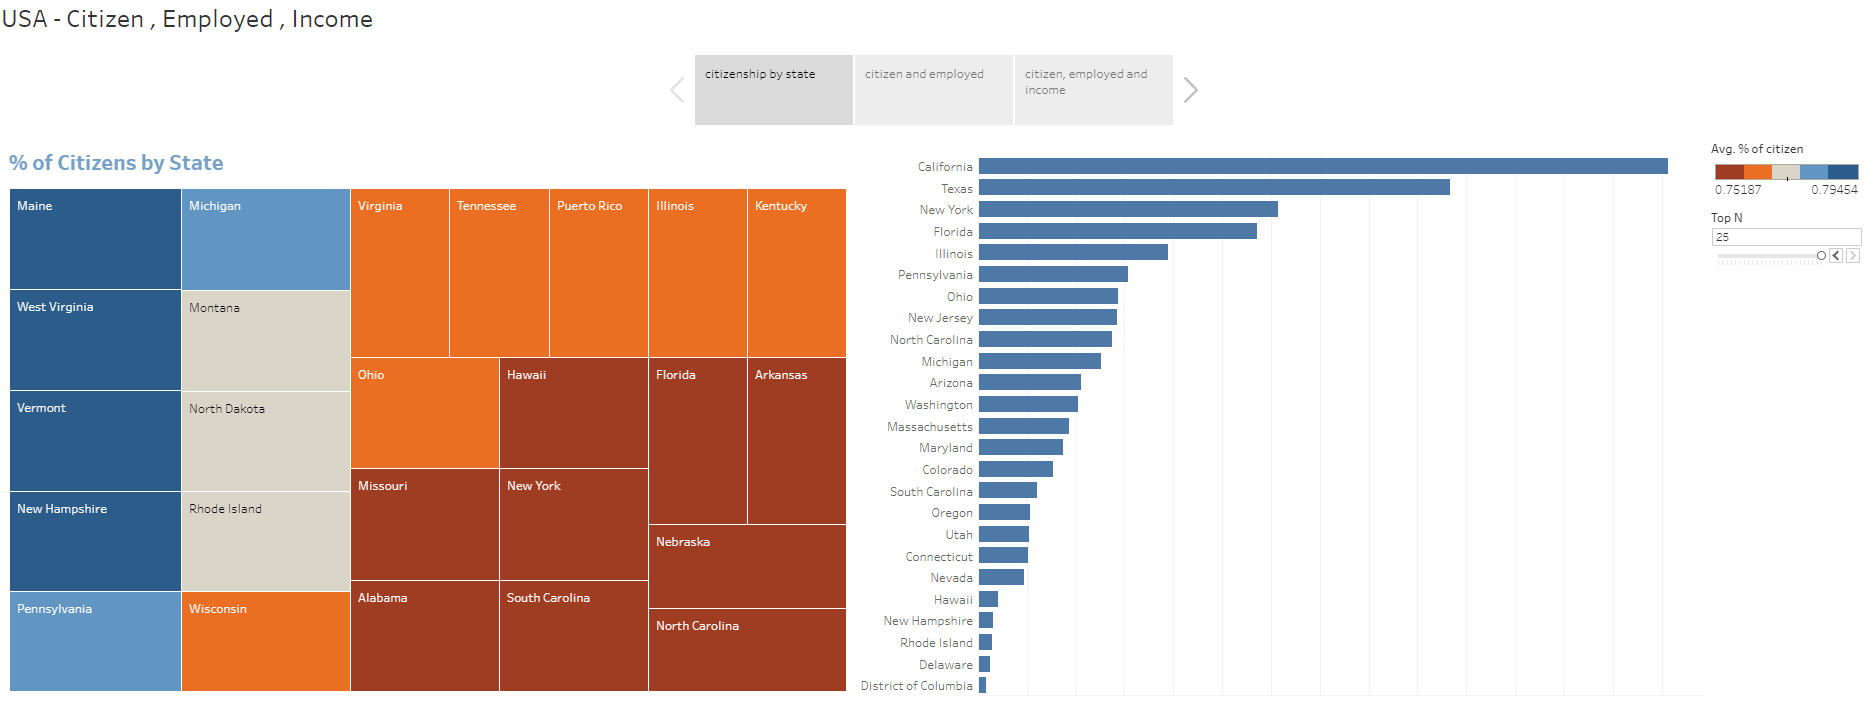

This screenshot's page, from the dashboard's own definition file:
{"tool":"tableau","page":{"name":"Dashboard 1","canvas":[1000,1000],"units":"permille","ordinal":0},"visuals":[{"type":"worksheet","title":"Sheet 10","mark":"Automatic","box":[0,0,450.8,1000]},{"type":"worksheet","title":"Sheet 8","mark":"Automatic","rows":["State"],"cols":["Calculation_261771748397506578"],"box":[450.8,0,450.8,1000]},{"type":"legend","title":"Sheet 10","param":"[federated.1ci7z6c1137yzq11qzppe0q217rl].[avg:Calculation_261771748036870161:qk]","box":[901.6,0,98.4,83.6]},{"type":"parameter","param":"[Parameters].[State Parameter]","box":[901.6,83.6,98.4,90.5]}]}

Visuals, with their boxes on the dashboard's canvas, which has no fixed pixel size, in thousandths of its width and height (x1, y1, x2, y2). These are canvas units, not pixel positions in the 1875x707 screenshot, which may show the page scaled, cropped or inside an application window:
"Sheet 10" worksheet: x1=0, y1=0, x2=451, y2=1000
"Sheet 8" worksheet: x1=451, y1=0, x2=902, y2=1000
"Sheet 10" legend: x1=902, y1=0, x2=1000, y2=84
parameter: x1=902, y1=84, x2=1000, y2=174
